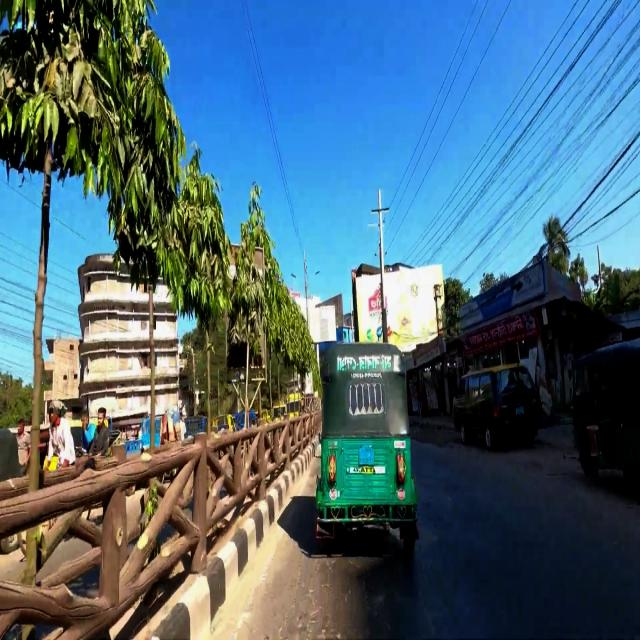black: (452, 361, 544, 447)
